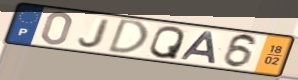0: (39, 11, 75, 47)
6: (222, 33, 262, 69)
A: (179, 30, 218, 65)
D: (105, 18, 150, 55)
J: (76, 18, 113, 49)
Q: (147, 25, 187, 61)
